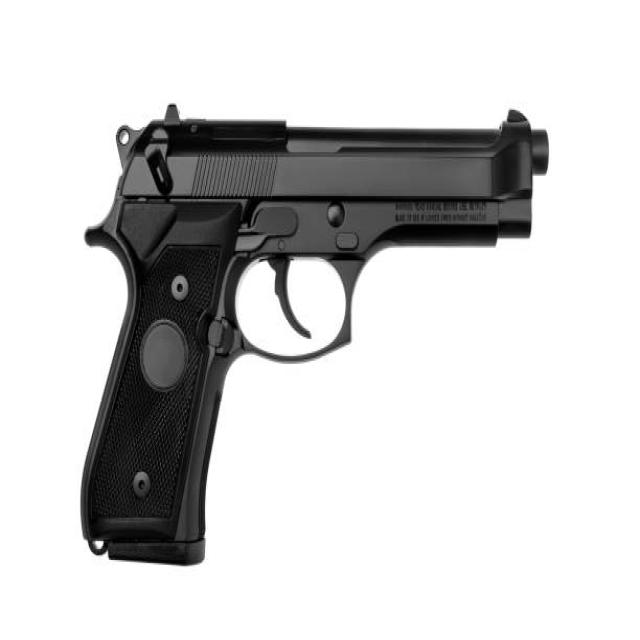pistol: (73, 98, 555, 571)
